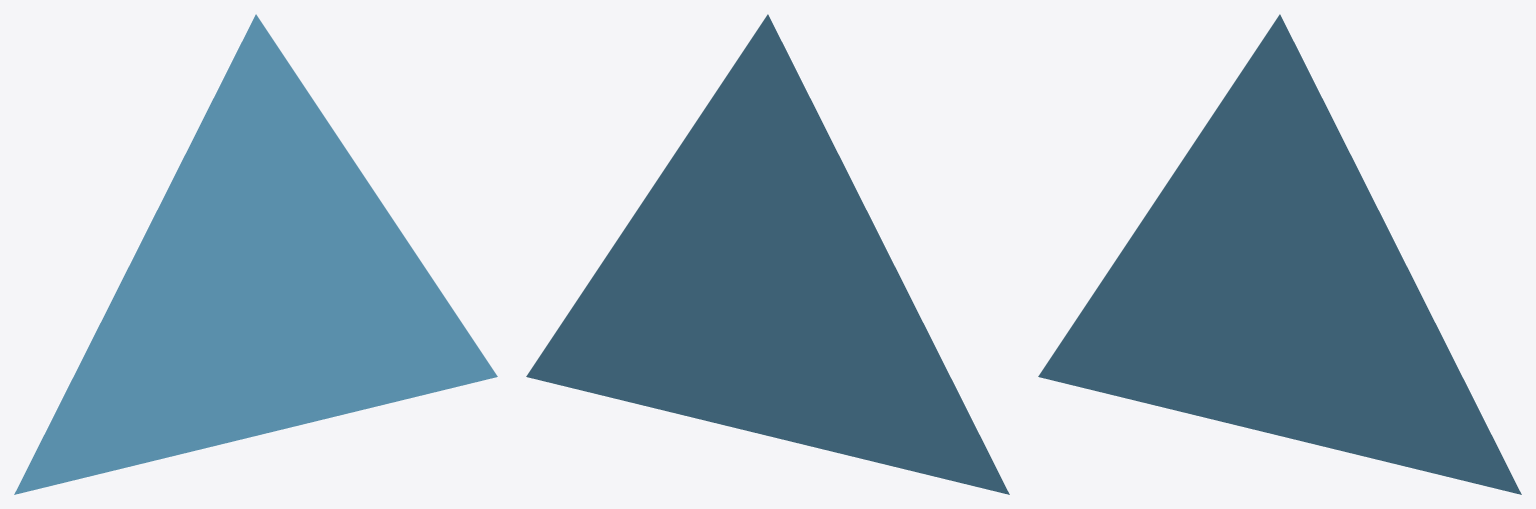
File: triangle.glb
3 renders of one model, left to right at view 1: azimuth 30°, elevation 25°; view 2: azimuth 150°, elevation 25°; view 3: azimuth 330°, elevation 25°, orthographic.
Visible parts, largest first — view 1: triangle-primary; view 2: triangle-primary; view 3: triangle-primary.
Boxes of the visible parts, x1,y1,x2,y2 form: triangle-primary: [14, 14, 497, 494]; triangle-primary: [526, 14, 1009, 494]; triangle-primary: [1038, 14, 1521, 494].
Bounding box in the file's own units: 1.5 × 1.25 × 0.
